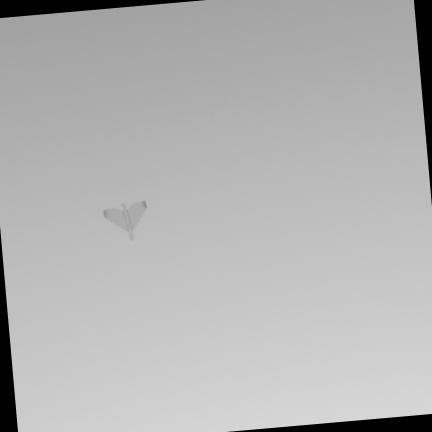Shahed: (104, 201, 146, 240)
